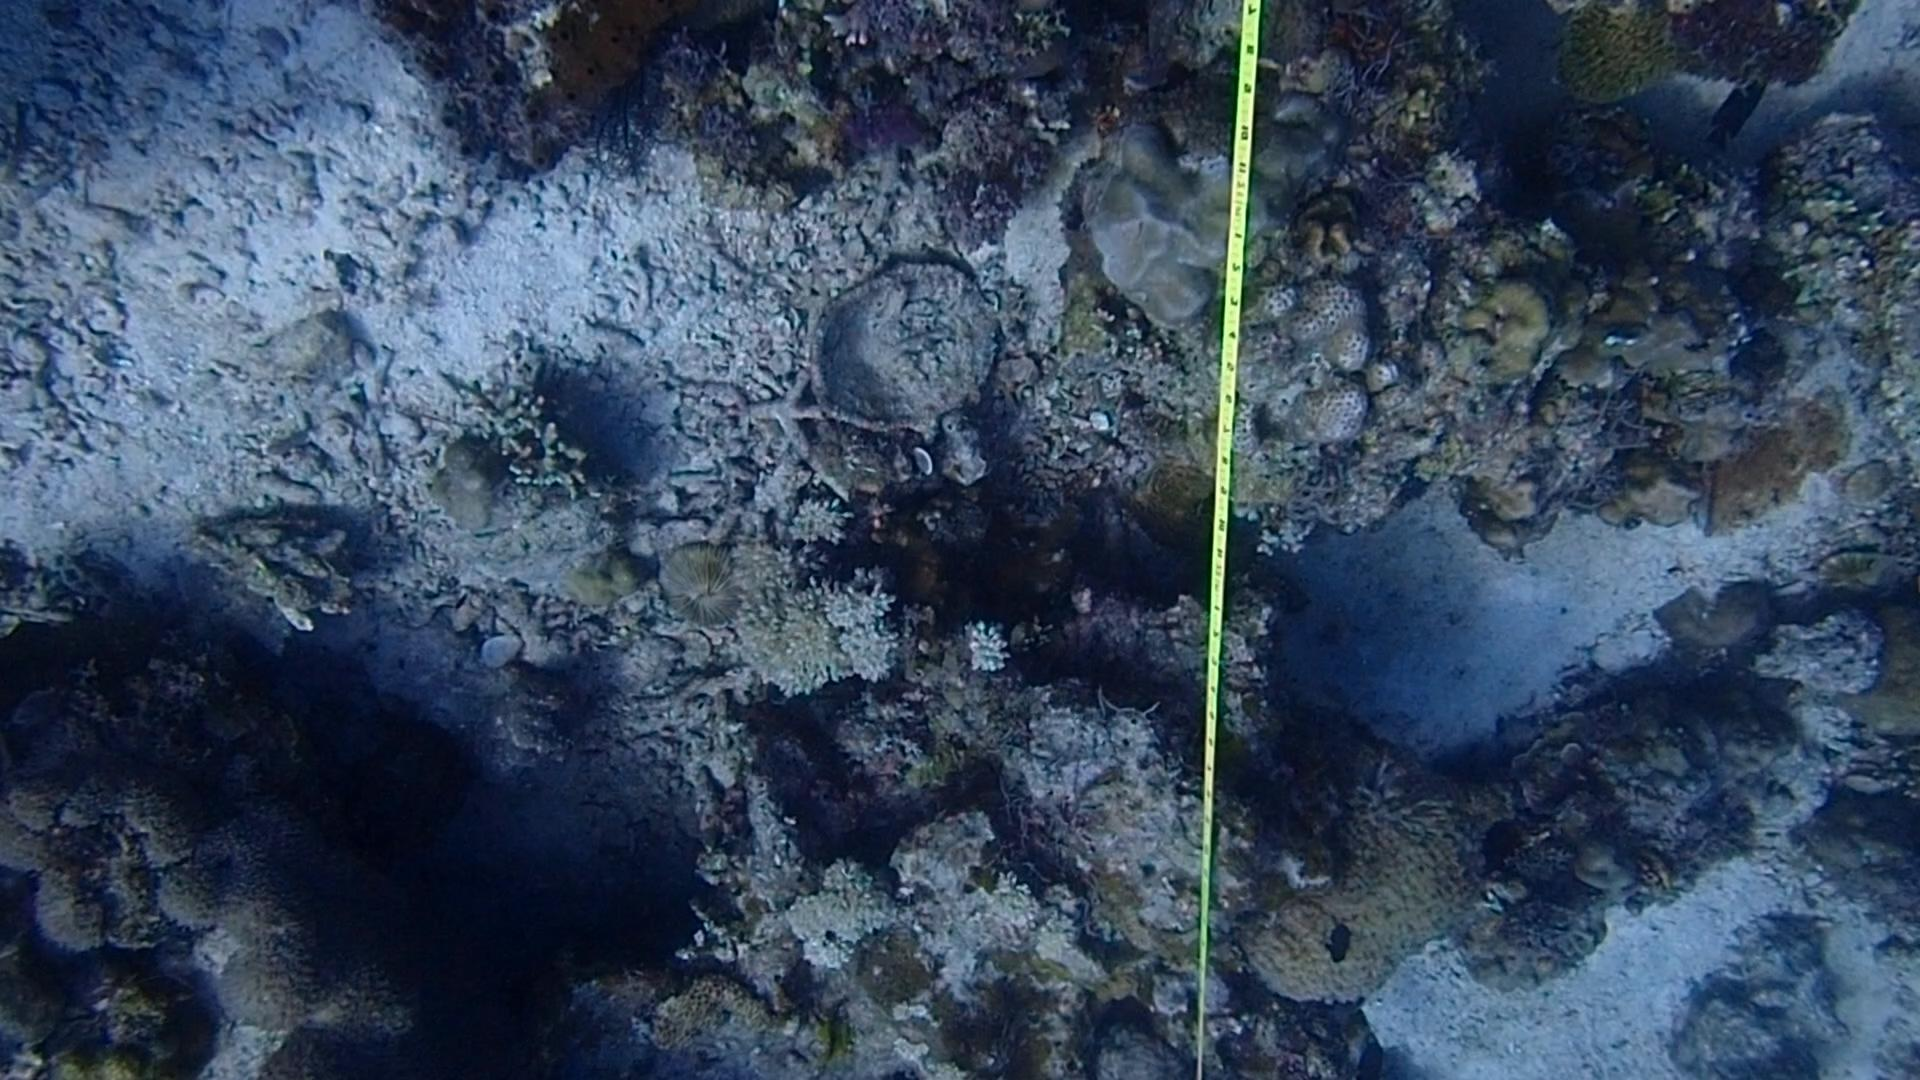Dark Fish: (1689, 58, 1778, 169), (1465, 804, 1527, 882), (1313, 914, 1362, 985)
